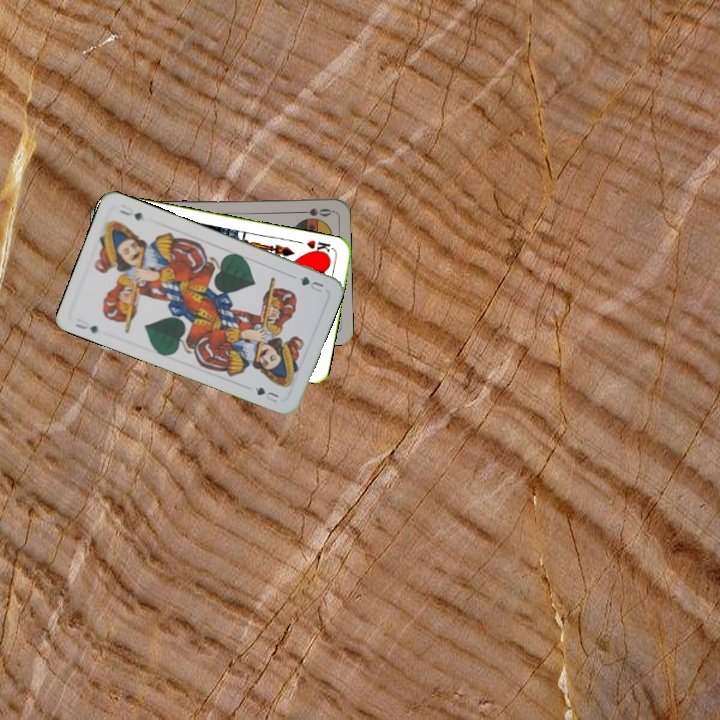GU: (295, 272, 326, 295), (71, 314, 100, 336)
HK: (302, 236, 336, 258)
SO: (293, 204, 334, 219)
